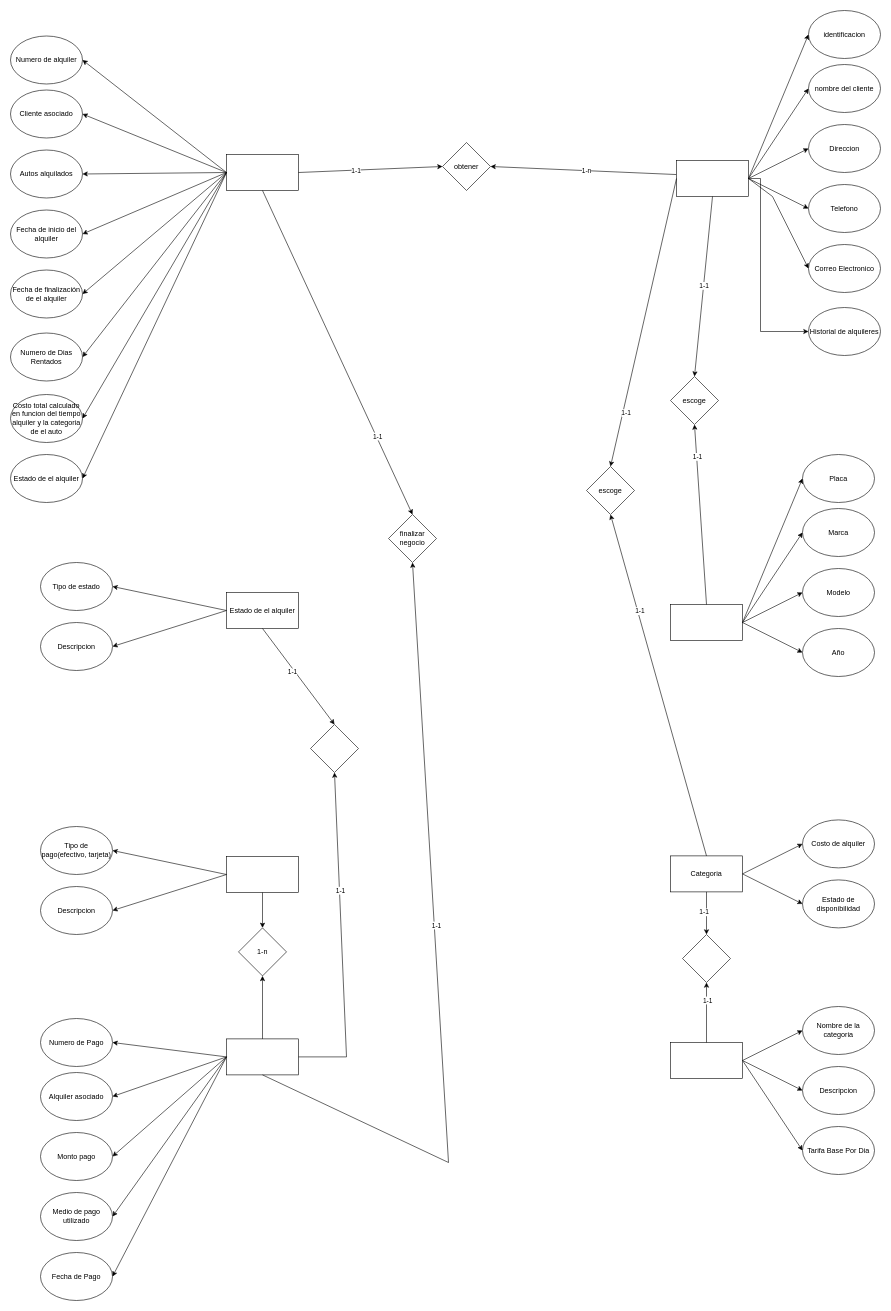
Image size: 891x1311. Some labels were removed from this diagram. Here are the shapes that lost their labels. From the top down, the centre of each, then its label:
At (262,172): "Alquiler".
At (712,178): "Cliente".
At (706,622): "Auto".
At (334,748): "actualiza".
At (262,874): "Metodo de pago".
At (706,958): "selecciona".
At (262,1056): "Pago".
At (706,1060): "Categoria de Auto".
